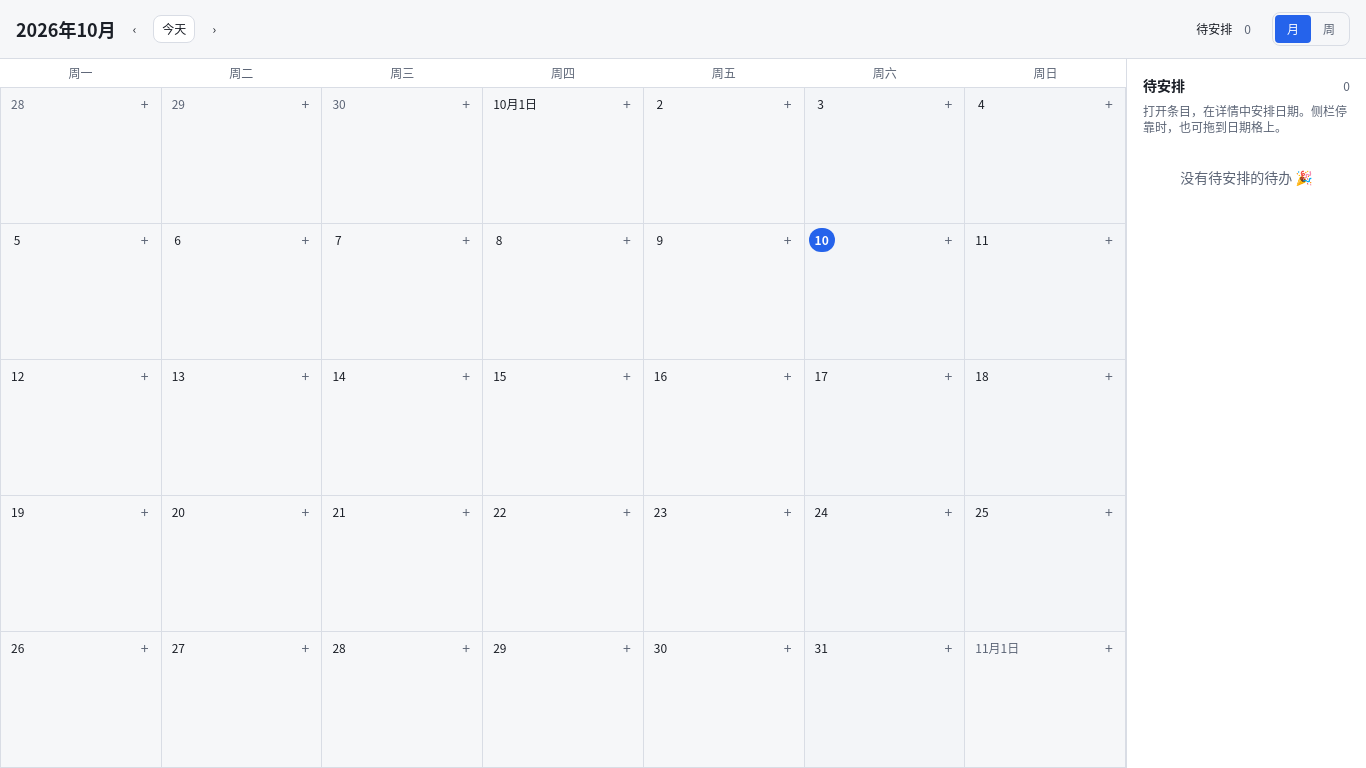
Test: 拖拽排期 › 可通过日期的新建按钮直接从剪贴板预填
Click the button named "添加待办": x=145, y=104 x1=133 y1=92 x2=157 y2=116
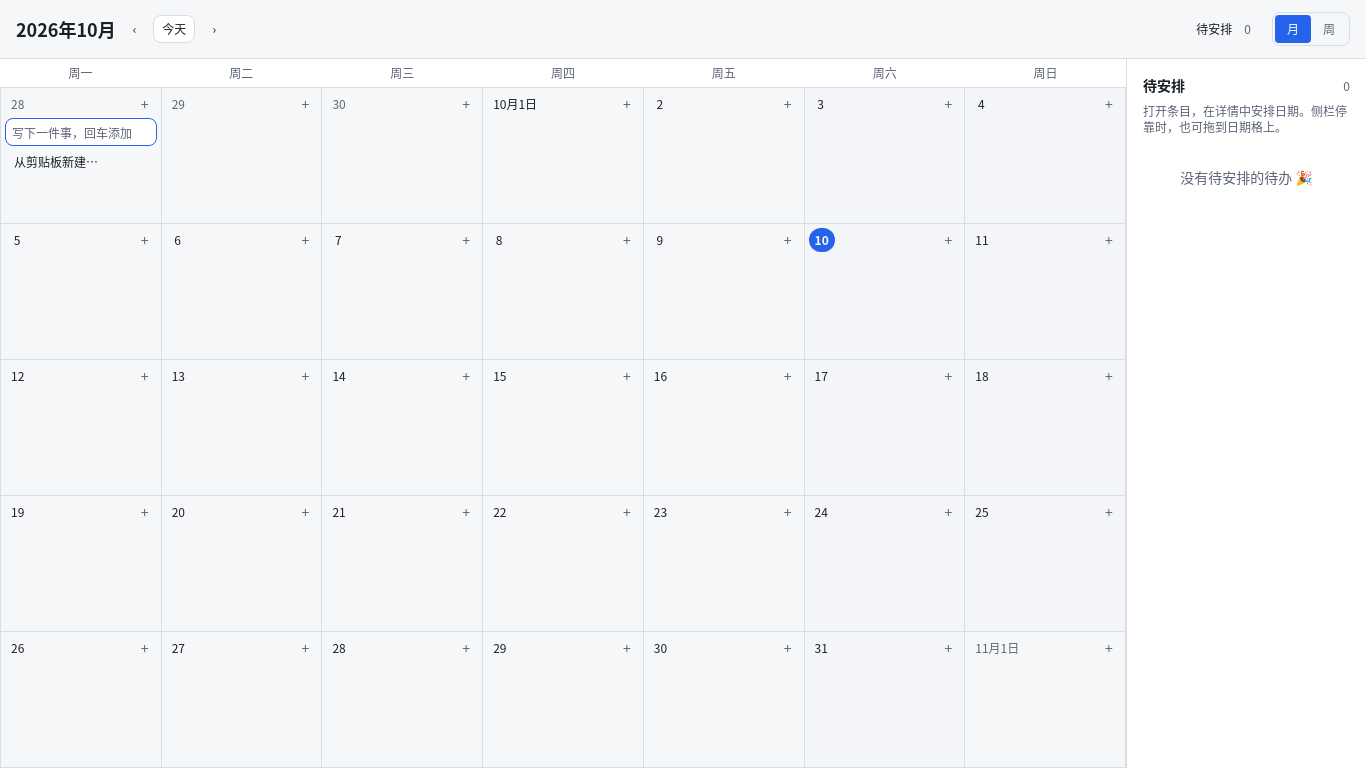
Click the button "从剪贴板新建…": x=56, y=162 x1=5 y1=148 x2=107 y2=176
(page scrolled)
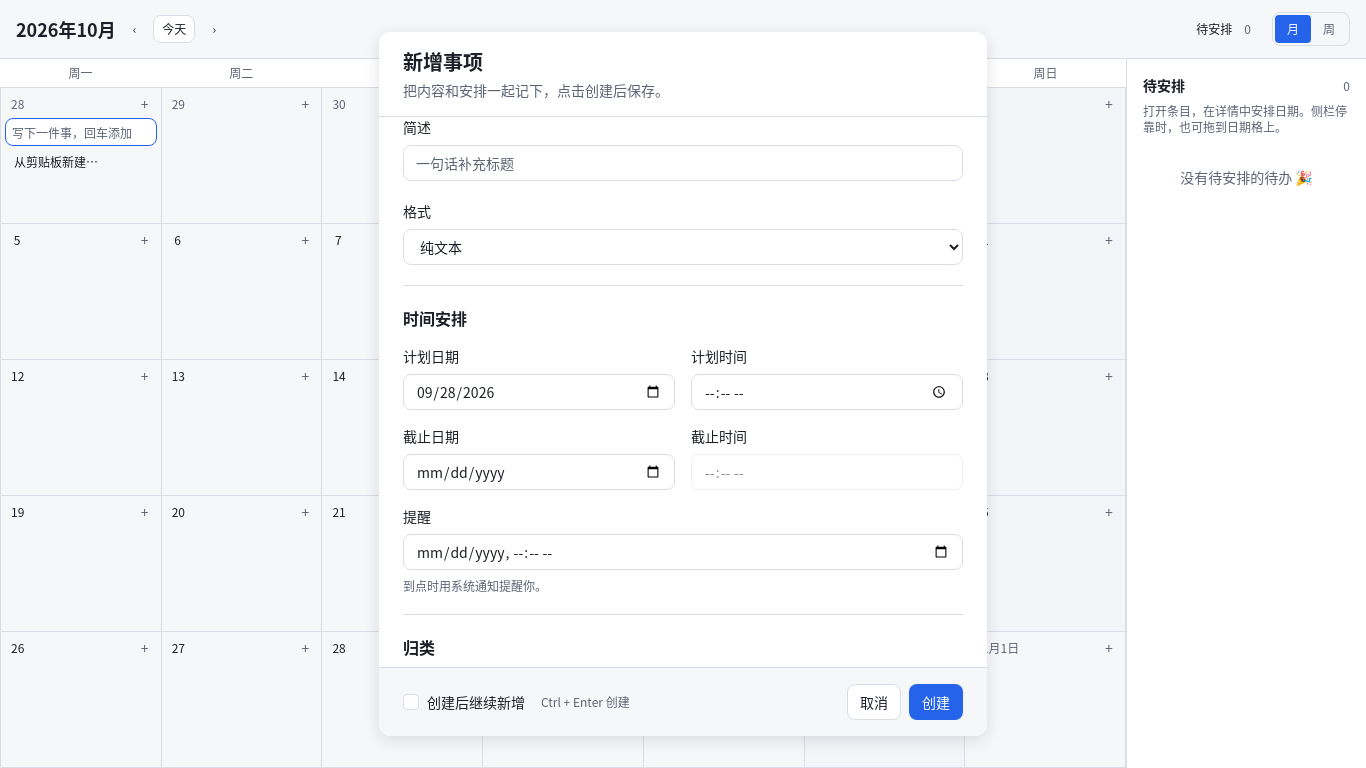
Expected: the date field named "计划日期（日）" holds "2026-09-28", x1=403 y1=374 x2=675 y2=410
